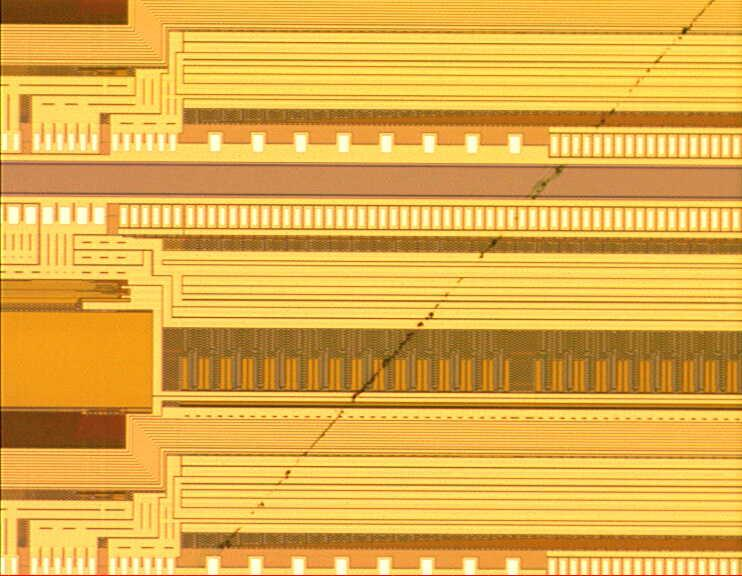SCRATCH: (189, 1, 724, 575)
